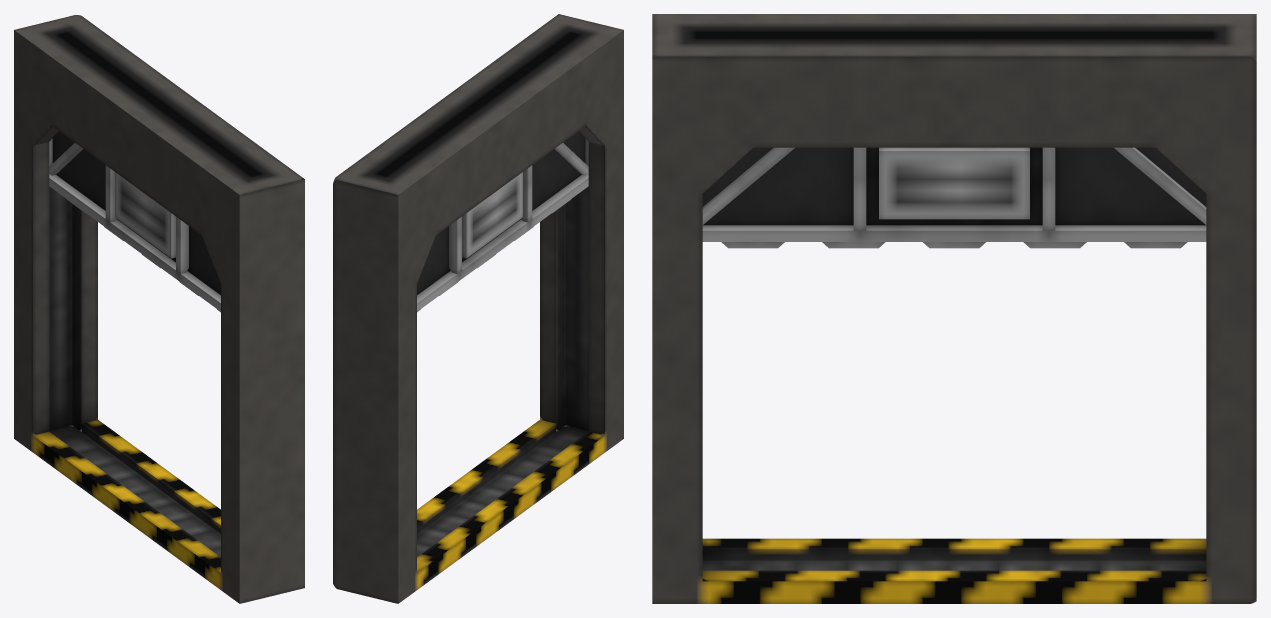
The model's file is qe_containment_128.obj.
3 views of the same model, side by side, from view 1: azimuth 30°, elevation 25°; view 2: azimuth 150°, elevation 25°; view 3: azimuth 270°, elevation 25° (orthographic). The views are drawn at different scales.
Visible parts, largest first — view 1: Frame, Door; view 2: Frame, Door; view 3: Frame, Door.
Boxes of the visible parts, <box> form: Frame: <box>14,15,304,603</box>; Door: <box>49,131,220,312</box>; Frame: <box>333,14,623,603</box>; Door: <box>417,131,588,312</box>; Frame: <box>652,14,1256,603</box>; Door: <box>702,147,1206,248</box>.
Size of the model in its own units: 0.5 by 3 by 3.
